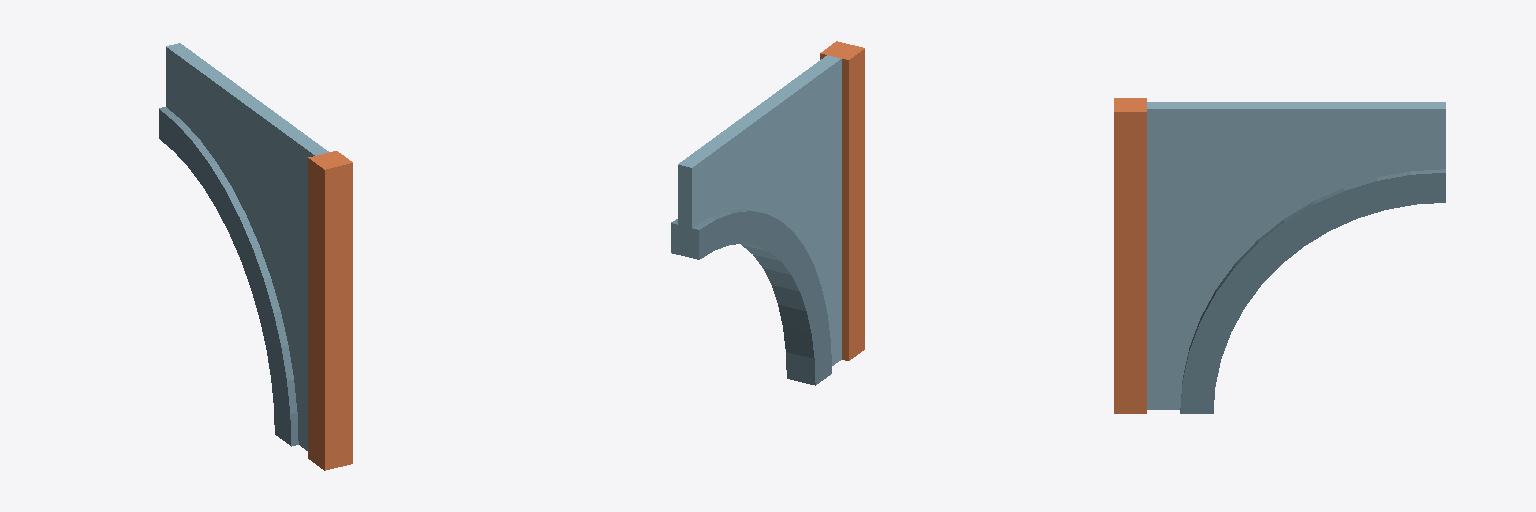
File: wallArchTop.obj
3 views of the same model, side by side, from view 1: azimuth 30°, elevation 25°; view 2: azimuth 150°, elevation 25°; view 3: azimuth 270°, elevation 25° (orthographic).
Parts seen in each view (by area): view 1: wallArchTop; view 2: wallArchTop; view 3: wallArchTop.
Part boxes in pixels (x1,y1,x2,y2): wallArchTop: (159,43,352,470); wallArchTop: (671,41,864,385); wallArchTop: (1114,98,1445,413).
Size of the model in its own units: 0.1 by 1 by 1.